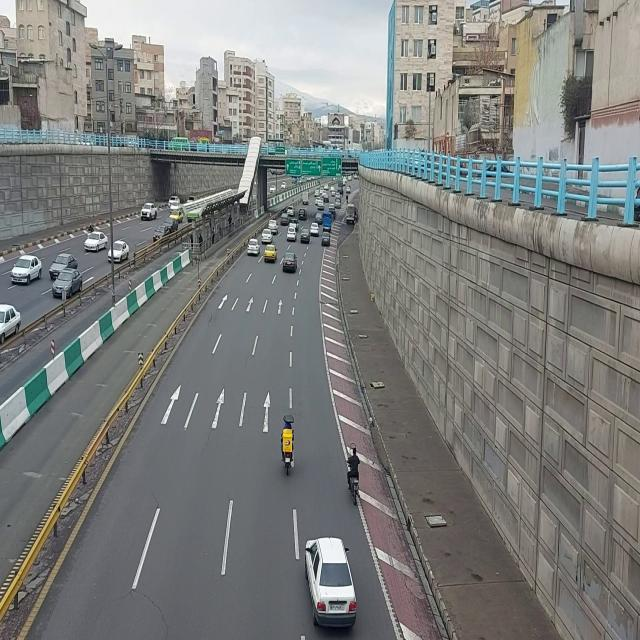Car: (305, 534, 359, 636), (10, 254, 42, 288), (51, 268, 83, 299), (0, 302, 21, 346), (84, 231, 108, 254), (107, 240, 129, 265), (282, 252, 298, 274), (153, 225, 170, 243), (264, 244, 278, 264), (163, 216, 179, 233), (247, 239, 261, 257), (261, 229, 273, 245), (169, 209, 184, 221), (287, 227, 298, 242), (300, 229, 310, 245), (321, 232, 331, 248), (310, 223, 320, 238), (268, 219, 278, 233), (170, 201, 181, 213), (281, 213, 290, 227), (298, 208, 306, 220), (315, 212, 323, 224), (287, 205, 295, 216), (317, 200, 325, 210), (328, 202, 335, 212), (335, 200, 341, 210)
Motorcycle: (279, 413, 295, 476), (347, 441, 361, 505), (332, 208, 336, 221), (346, 194, 349, 205)
Pickup: (140, 202, 158, 222), (322, 212, 332, 232), (303, 192, 310, 206)
